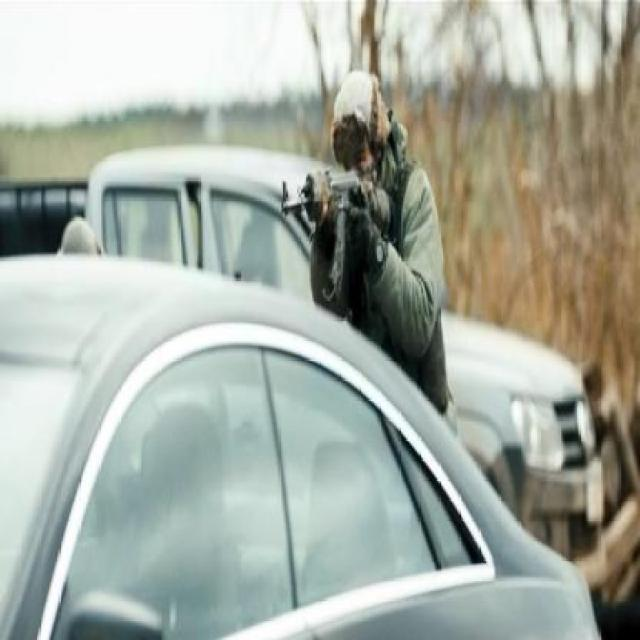gun: (262, 136, 386, 238)
